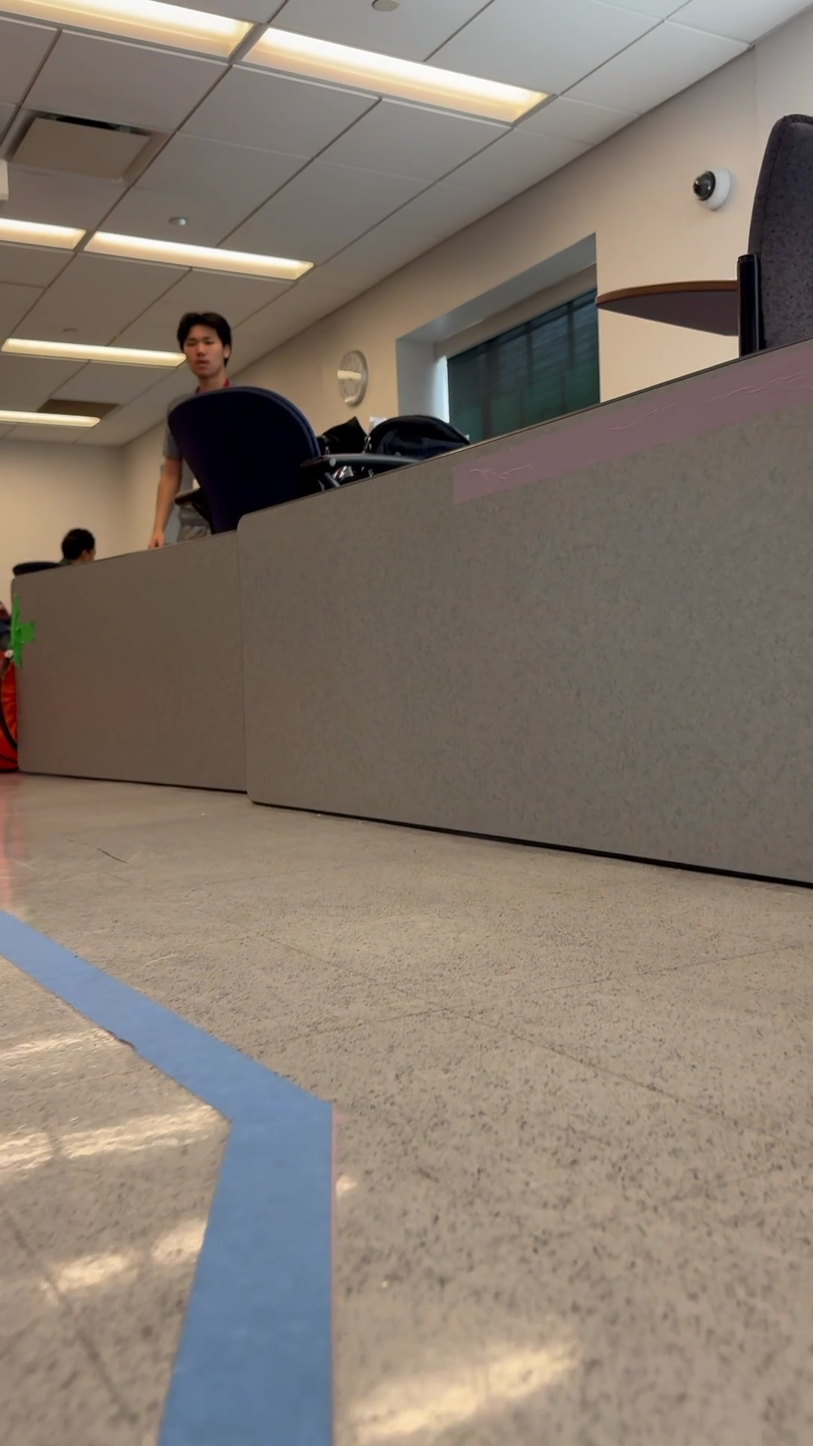racecar: (165, 392, 471, 538), (305, 409, 468, 496)
